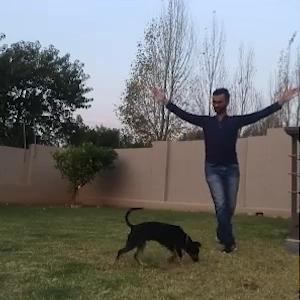takeoff: (152, 84, 298, 253)
